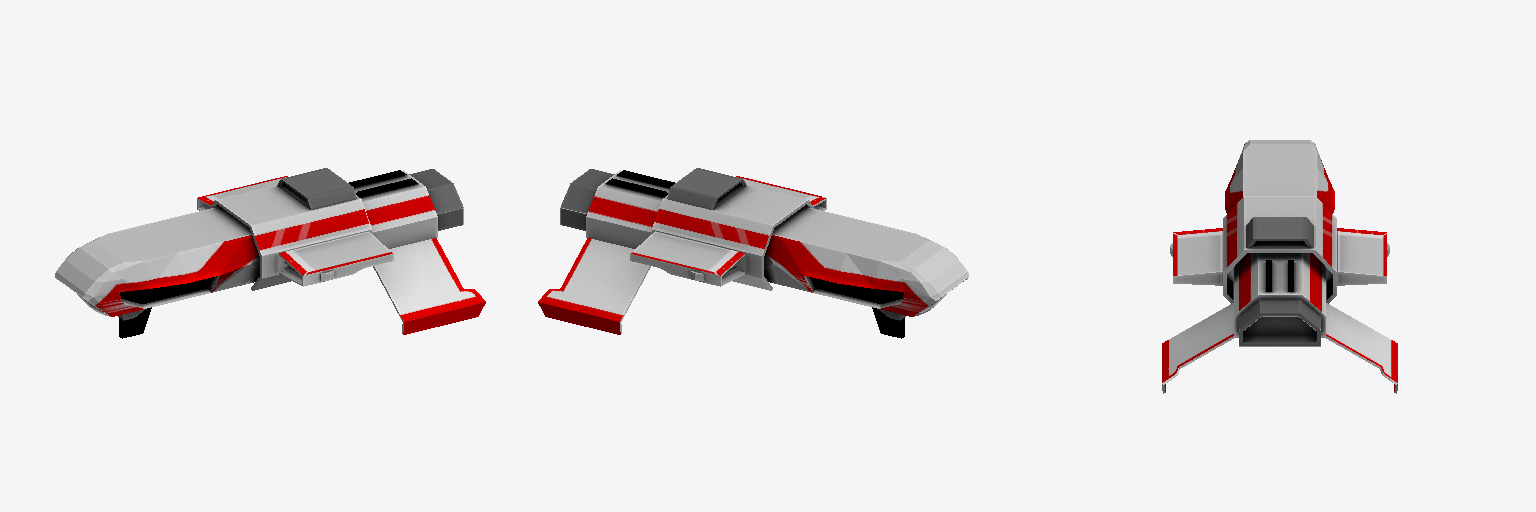
3 views of the same model, side by side, from view 1: azimuth 30°, elevation 25°; view 2: azimuth 150°, elevation 25°; view 3: azimuth 270°, elevation 25° (orthographic).
Visible parts, largest first — view 1: Bomber_Box003; view 2: Bomber_Box003; view 3: Bomber_Box003.
Part boxes in pixels (x1,y1,x2,y2): Bomber_Box003: (55,168,485,338); Bomber_Box003: (538,168,968,338); Bomber_Box003: (1162,140,1397,393).
Size of the model in its own units: 14.05 by 4.17 by 7.7.
Materials: 1 (1 with a texture image).